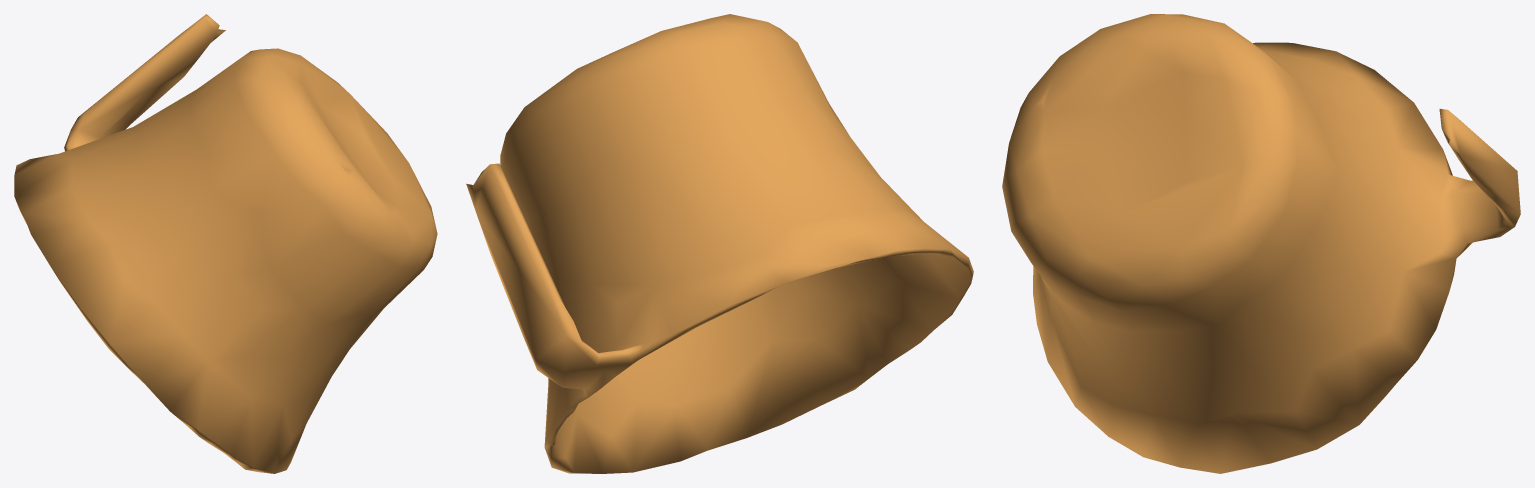
File: mug2_6.dae
3 renders of one model, left to right at view 1: azimuth 30°, elevation 25°; view 2: azimuth 150°, elevation 25°; view 3: azimuth 270°, elevation 25°, orthographic. The views are drawn at different scales.
Parts seen in each view (by area): view 1: GreenCup_800_tex_019; view 2: GreenCup_800_tex_019; view 3: GreenCup_800_tex_019.
Boxes of the visible parts, x1=… form: GreenCup_800_tex_019: x1=14, y1=14, x2=437, y2=473; GreenCup_800_tex_019: x1=466, y1=14, x2=973, y2=473; GreenCup_800_tex_019: x1=1002, y1=14, x2=1520, y2=473.
Size of the model in its own units: 0.2293 by 0.2487 by 0.2284.
